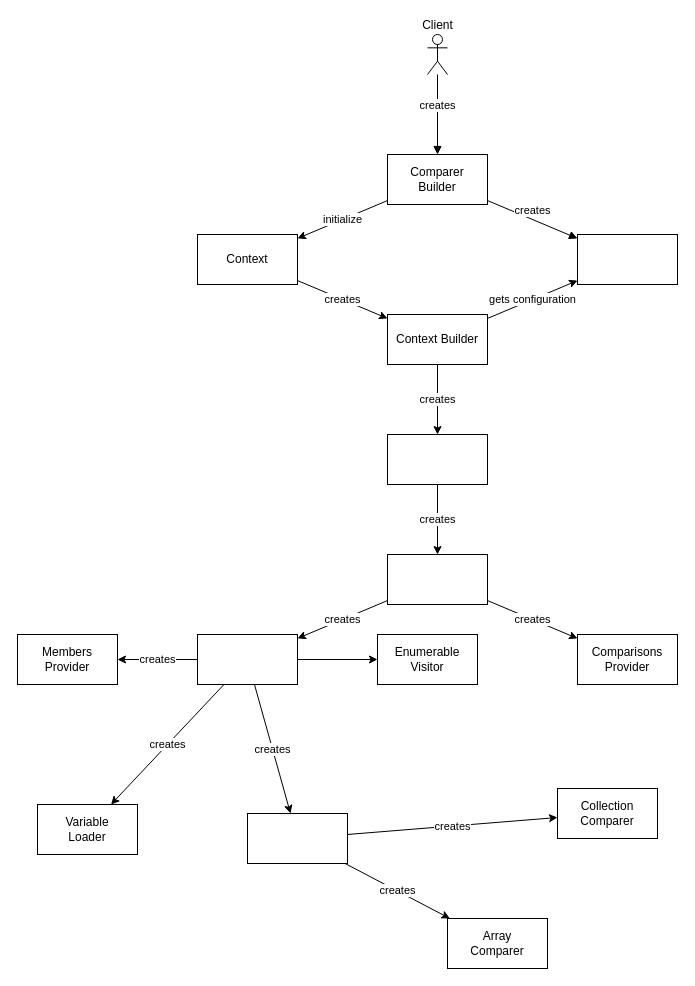
This 695x986 diagram has some shape labels left out. Here are the shapes that lost their labels. From the top down, the box of each, then its label:
(576, 234, 678, 284): Configuration Provider
(386, 434, 488, 484): Comparer Type Builder
(386, 554, 488, 604): Compare Emitter
(196, 634, 298, 684): Compare Visitor
(246, 812, 348, 864): Array Visitor
